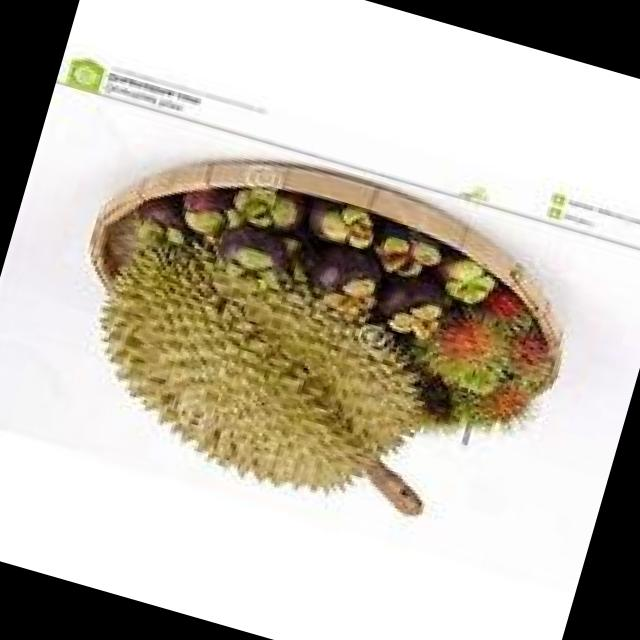fruit: (21, 139, 506, 571)
